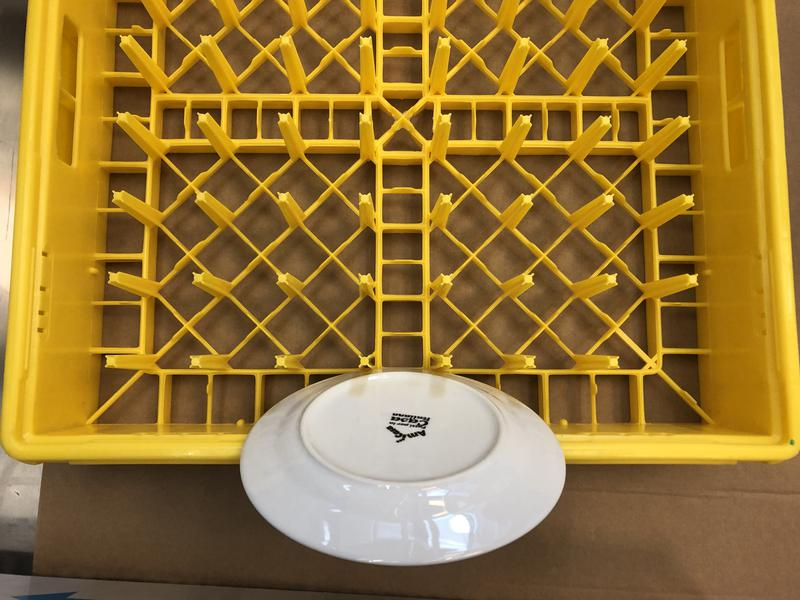Inclined_dish: (236, 369, 565, 566)
